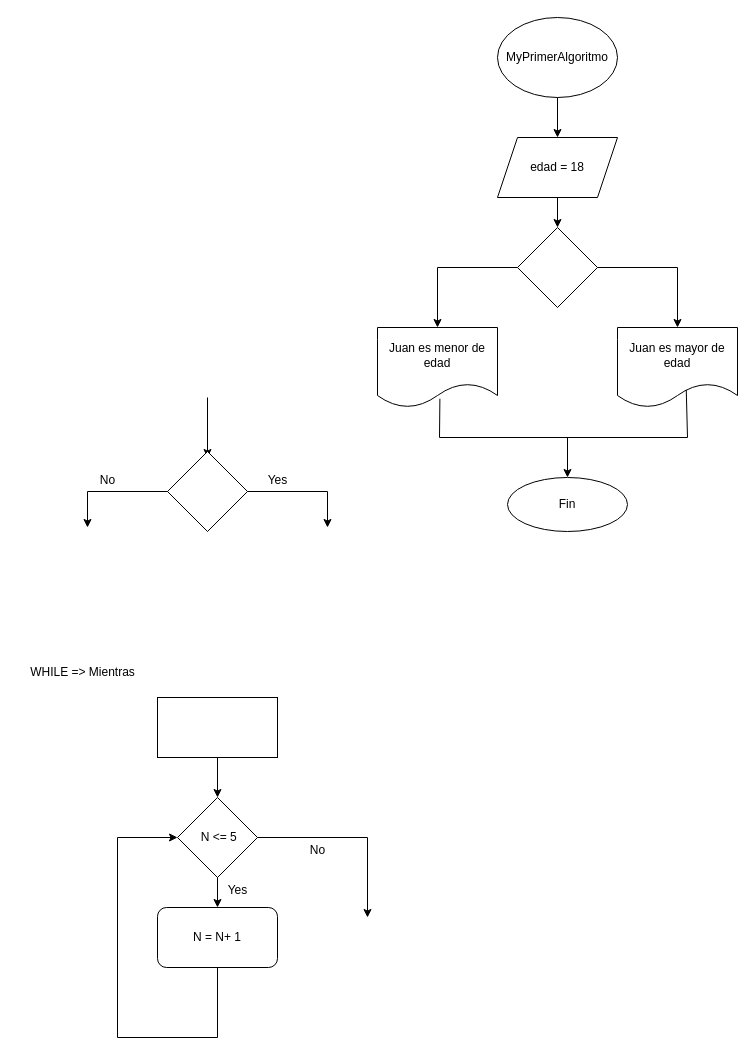
The diagram is 755 pixels wide and 1063 high, and some of its shapes have lost their labels. The centre of each missing label's shape, as x and y in pixels:
"edad >= 18" goes at [557,267].
"Juan Mayor edad?" goes at [207,491].
"N = 1" goes at [217,727].
